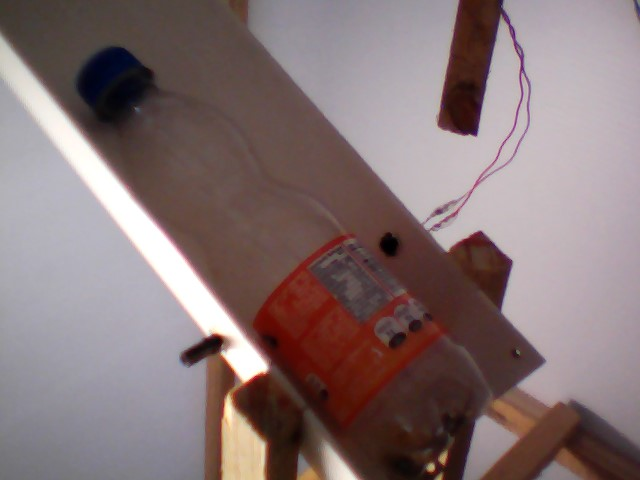plastico: (65, 45, 498, 480)
